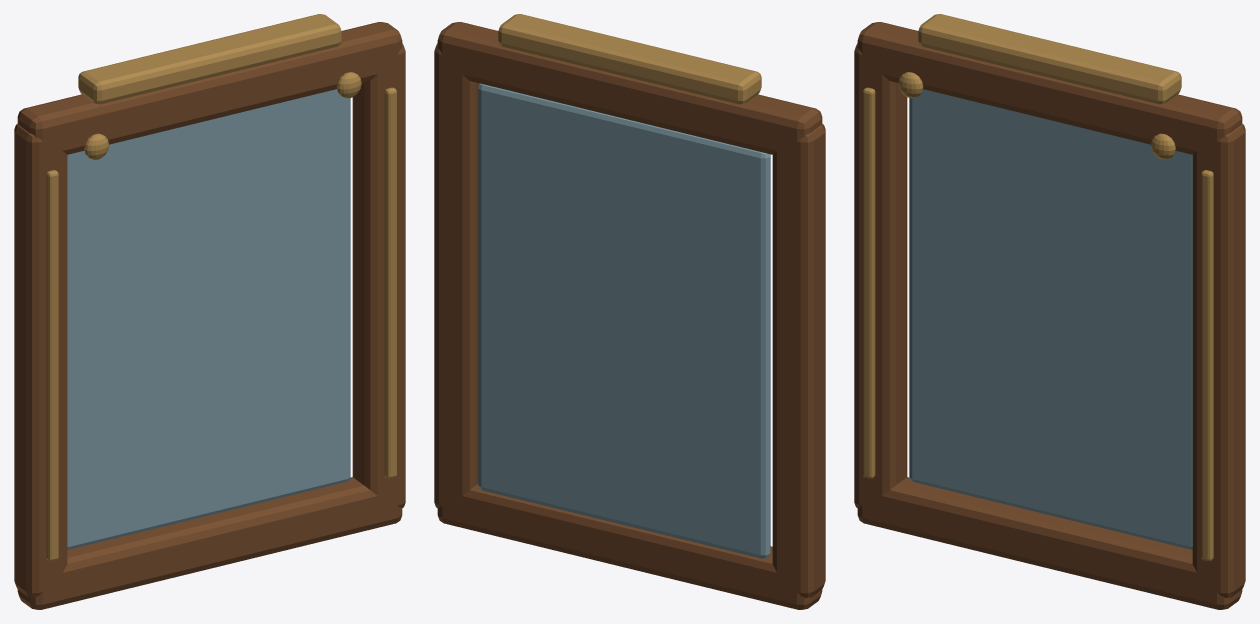
The model's file is bathroom_mirror.glb.
3 views of the same model, side by side, from view 1: azimuth 30°, elevation 25°; view 2: azimuth 150°, elevation 25°; view 3: azimuth 330°, elevation 25° (orthographic).
Parts seen in each view (by area): view 1: bathroom_mirror; view 2: bathroom_mirror; view 3: bathroom_mirror.
Boxes of the visible parts, x1,y1,x2,y2 form: bathroom_mirror: (14,14,405,609); bathroom_mirror: (434,14,825,609); bathroom_mirror: (854,14,1245,609).
Bounding box in the file's own units: 0.795 × 1.03 × 0.0995.
